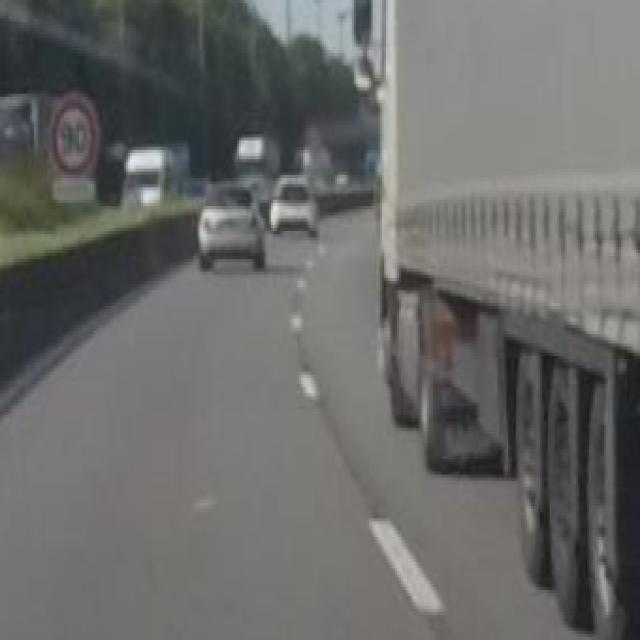speed_90: (54, 96, 94, 172)
